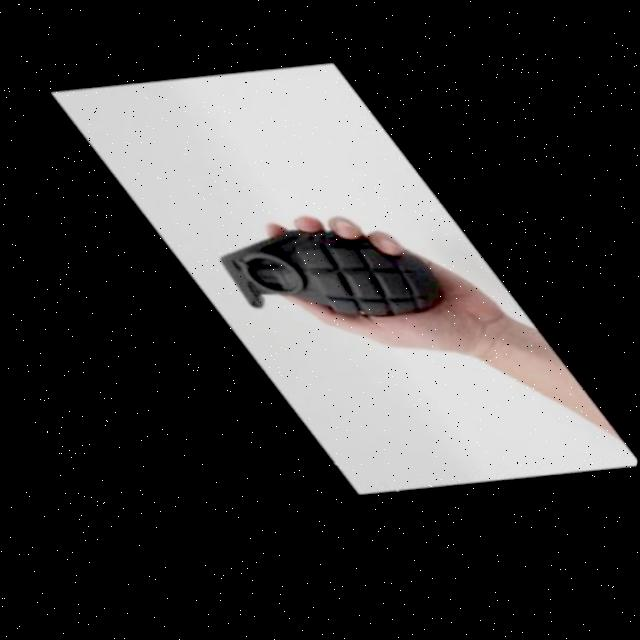grenade: (184, 167, 466, 397)
